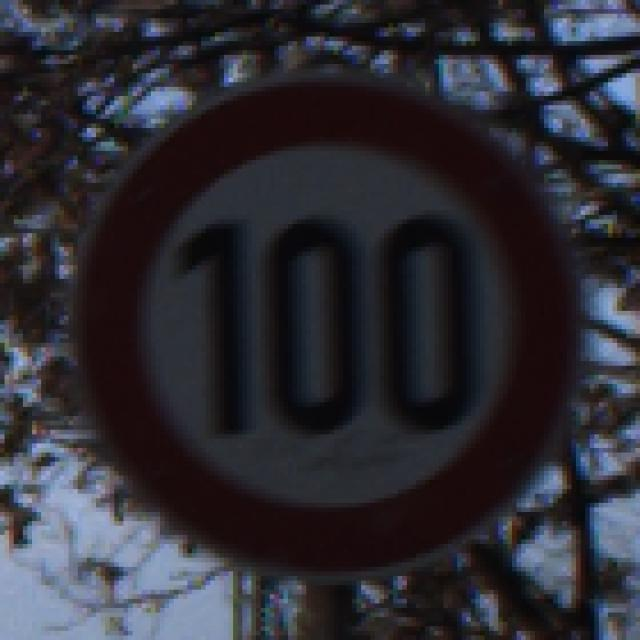speed limit 100: (65, 71, 579, 583)
